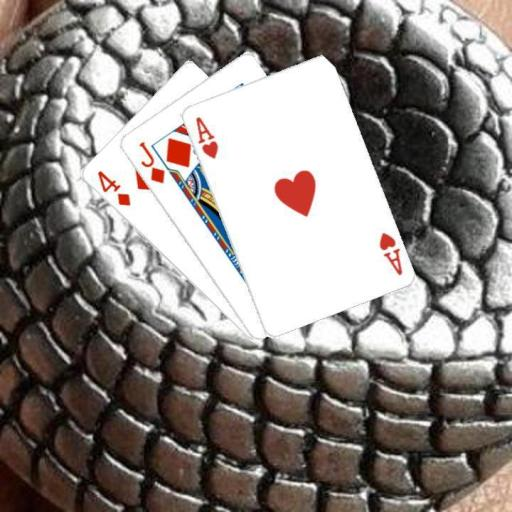card-corner: (93, 167, 132, 208), (135, 138, 167, 186), (375, 229, 404, 277), (192, 113, 220, 161)
